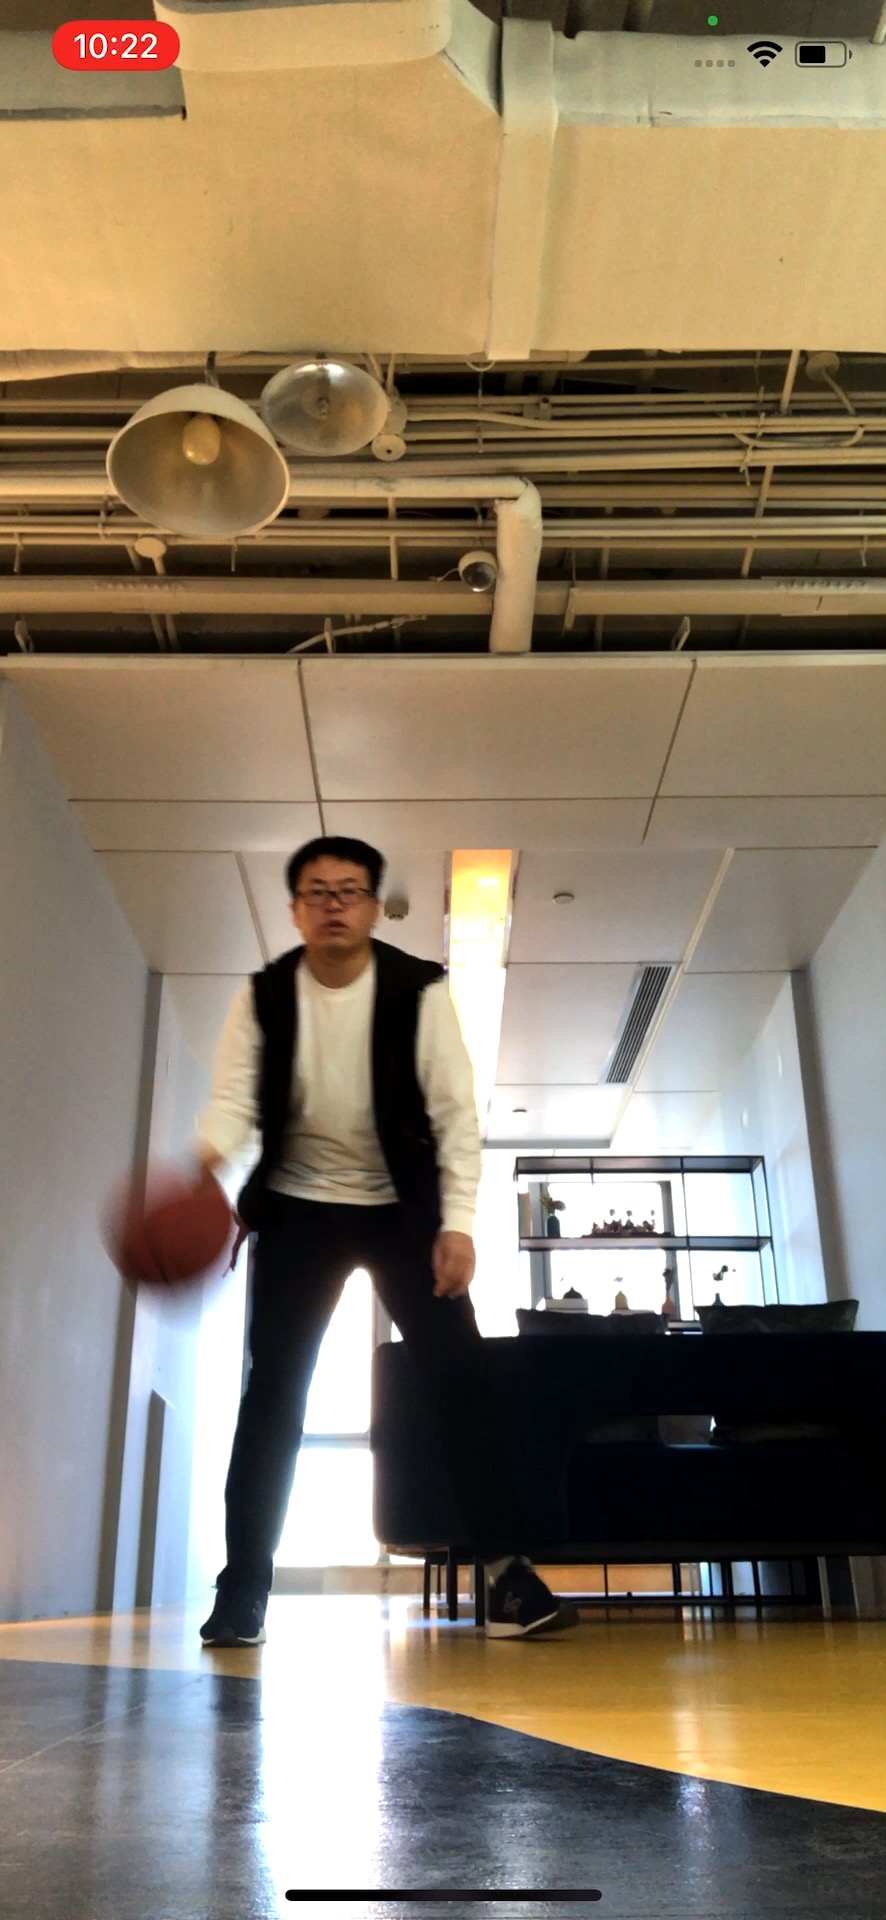ball: (102, 1155, 231, 1283)
